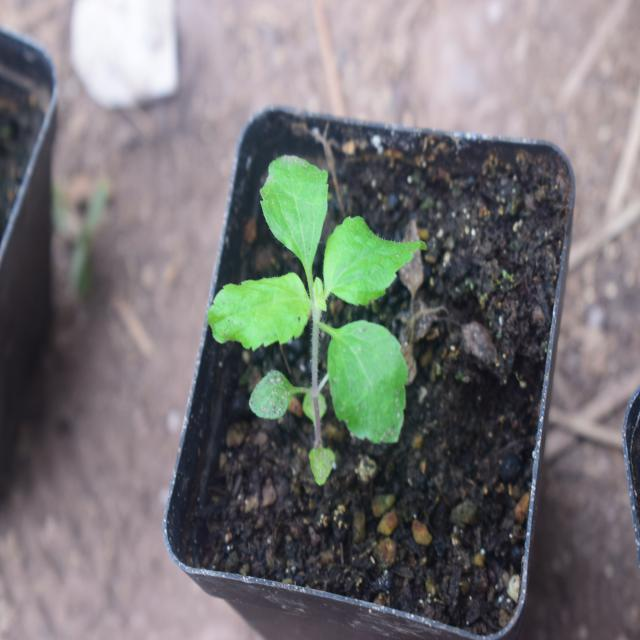billygoat_weed: (201, 152, 416, 460)
